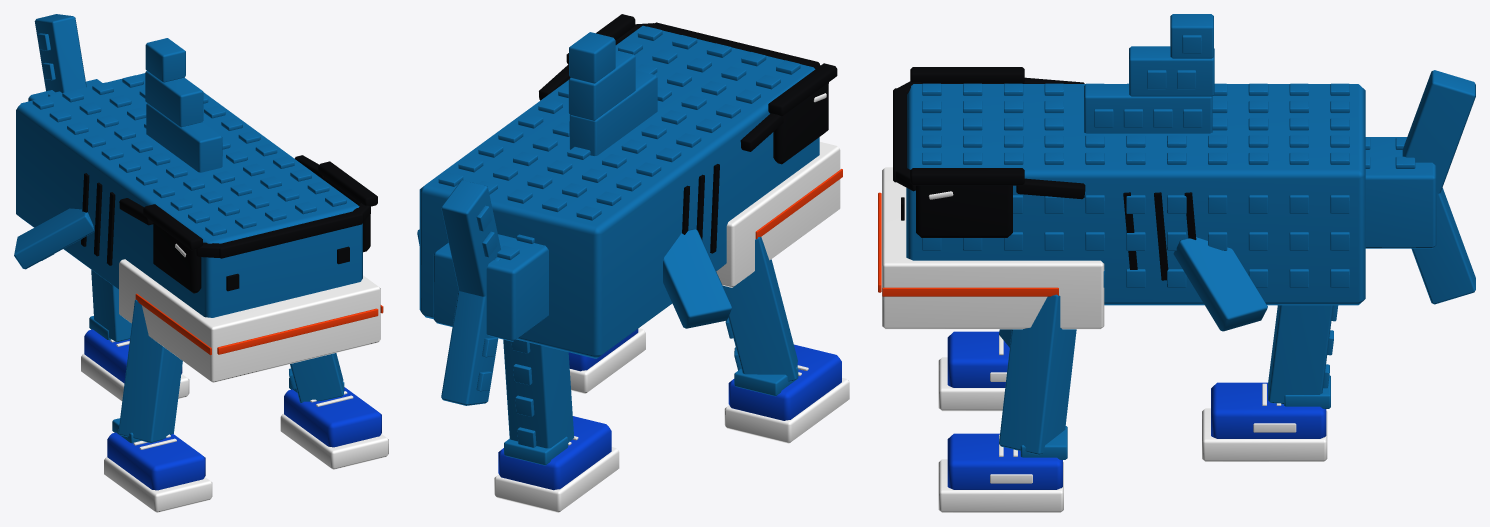
Rendered from CoolTralalero.fbx.
3 views of the same model, side by side, from view 1: azimuth 30°, elevation 25°; view 2: azimuth 150°, elevation 25°; view 3: azimuth 270°, elevation 25° (orthographic). The views are drawn at different scales.
Visible parts, largest first — view 1: CoolTralalero; view 2: CoolTralalero; view 3: CoolTralalero.
Part boxes in pixels (x1,y1,x2,y2): CoolTralalero: (14,14,388,512); CoolTralalero: (417,14,849,512); CoolTralalero: (878,14,1475,512).
Bounding box in the file's own units: 364 × 462 × 586.
Materials: 1 (1 with a texture image).
